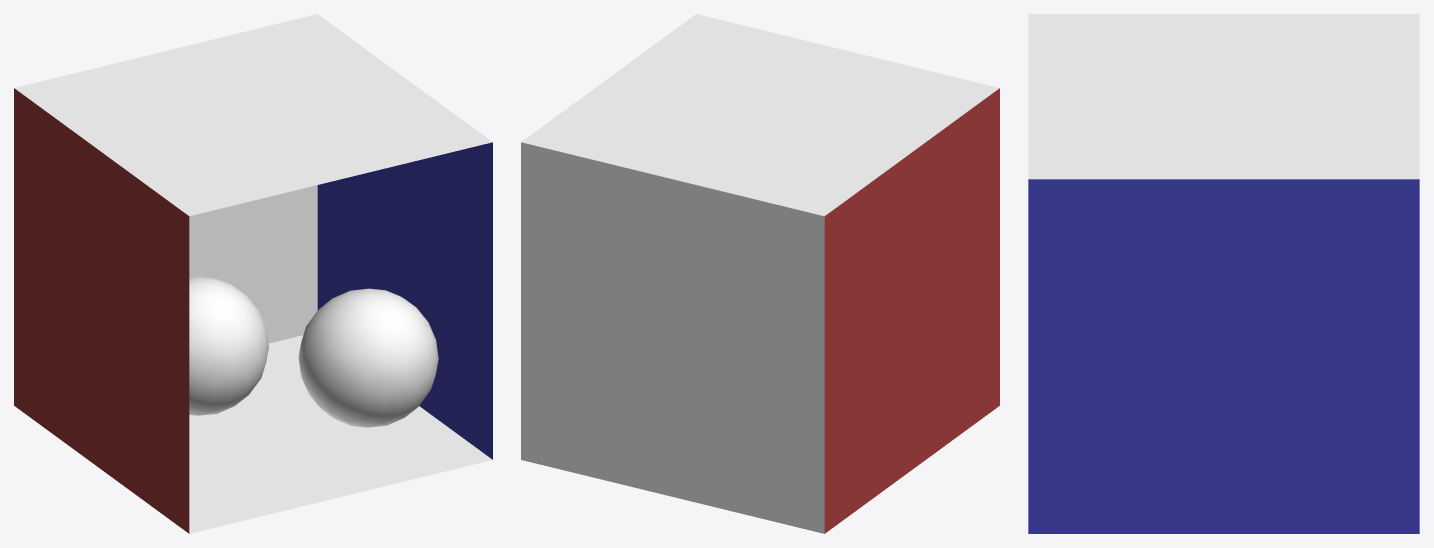
Rendered from cbox_test.dae.
3 views of the same model, side by side, from view 1: azimuth 30°, elevation 25°; view 2: azimuth 150°, elevation 25°; view 3: azimuth 270°, elevation 25° (orthographic). The views are drawn at different scales.
Visible parts, largest first — view 1: Square-S3D-13, Square-S3D-15, Square-S3D-14, Square-S3D-17, Object_19-S3D-19-SMOOTHED, Square-S3D-16, Object_18-S3D-18-SMOOTHED; view 2: Square-S3D-16, Square-S3D-13, Square-S3D-15; view 3: Square-S3D-14, Square-S3D-15.
Part boxes in pixels (<box>): Square-S3D-13: <box>14,88,189,533</box>; Square-S3D-15: <box>14,14,492,216</box>; Square-S3D-14: <box>317,142,492,459</box>; Square-S3D-17: <box>189,335,492,533</box>; Object_19-S3D-19-SMOOTHED: <box>298,288,438,427</box>; Square-S3D-16: <box>189,185,317,343</box>; Object_18-S3D-18-SMOOTHED: <box>189,276,268,415</box>; Square-S3D-16: <box>521,142,824,533</box>; Square-S3D-13: <box>824,88,999,533</box>; Square-S3D-15: <box>521,14,999,216</box>; Square-S3D-14: <box>1028,179,1419,533</box>; Square-S3D-15: <box>1028,14,1419,179</box>.
Bounding box in the file's own units: 1 × 1 × 1.
